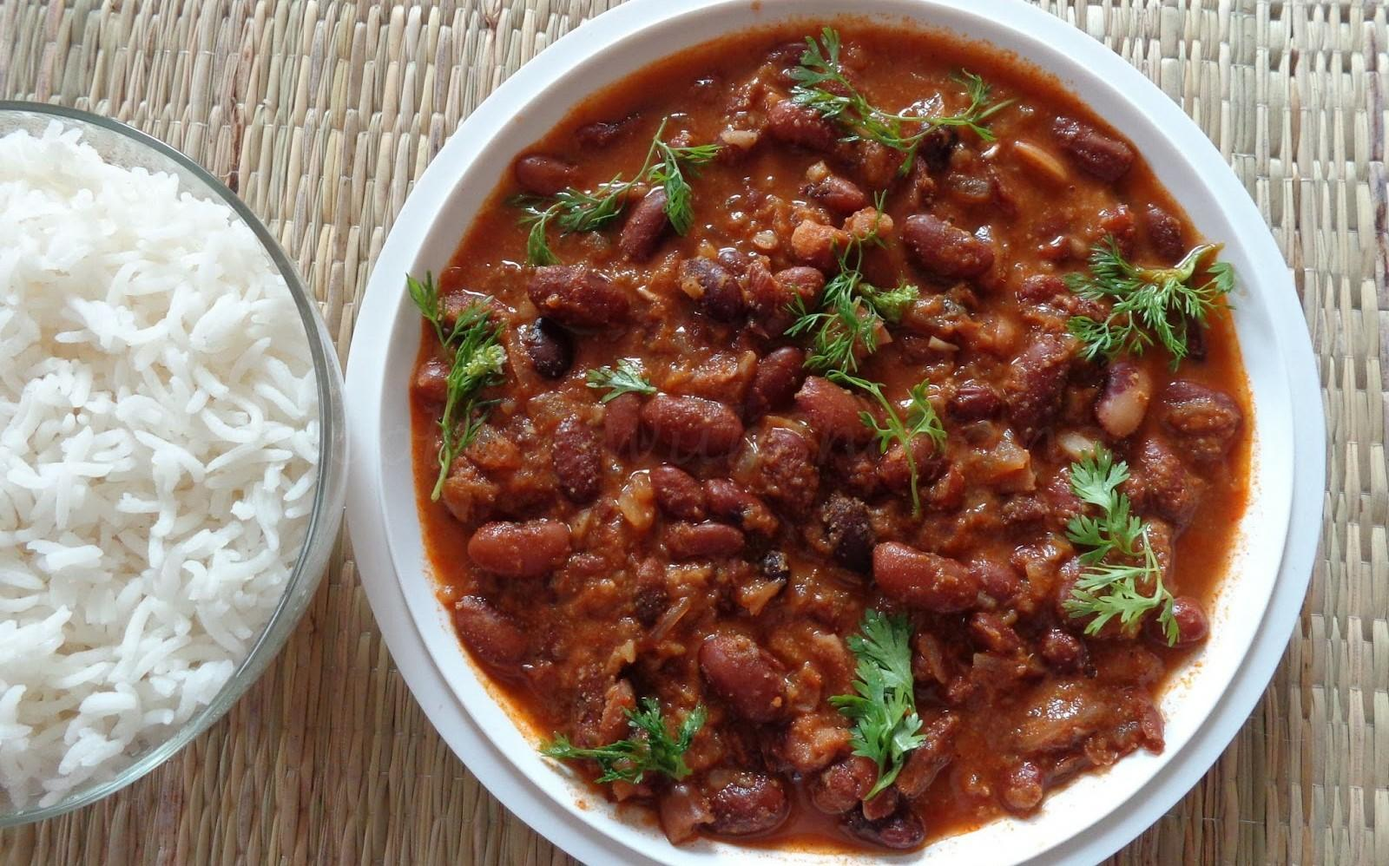RajmaCurry: (407, 27, 1240, 862)
